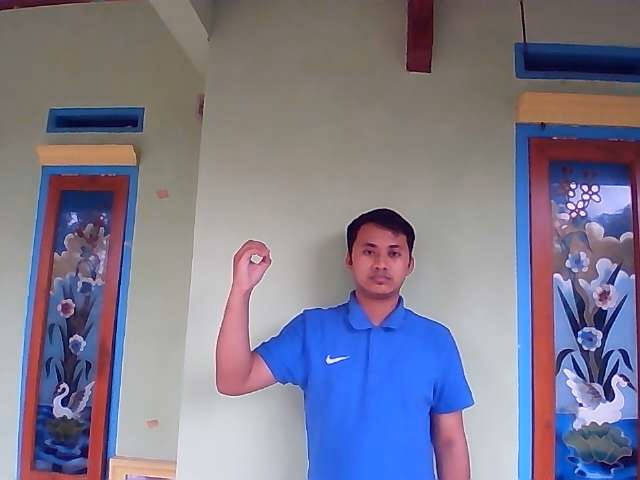O: (230, 238, 274, 287)
